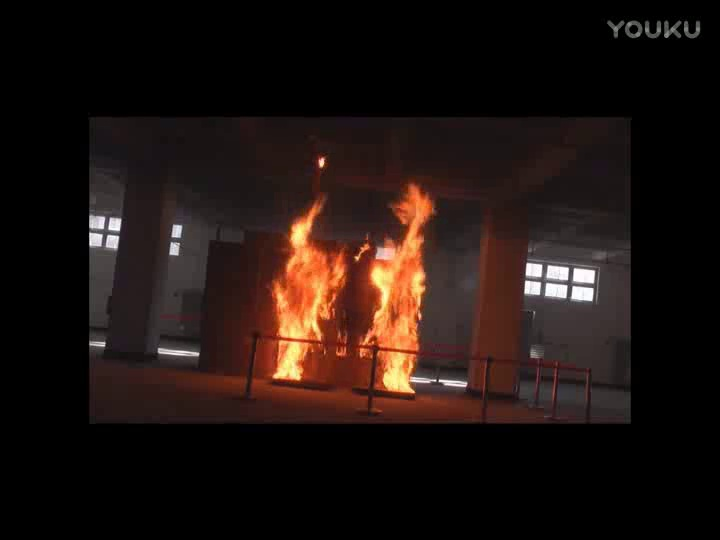fire: (363, 184, 434, 395), (273, 202, 343, 384)
